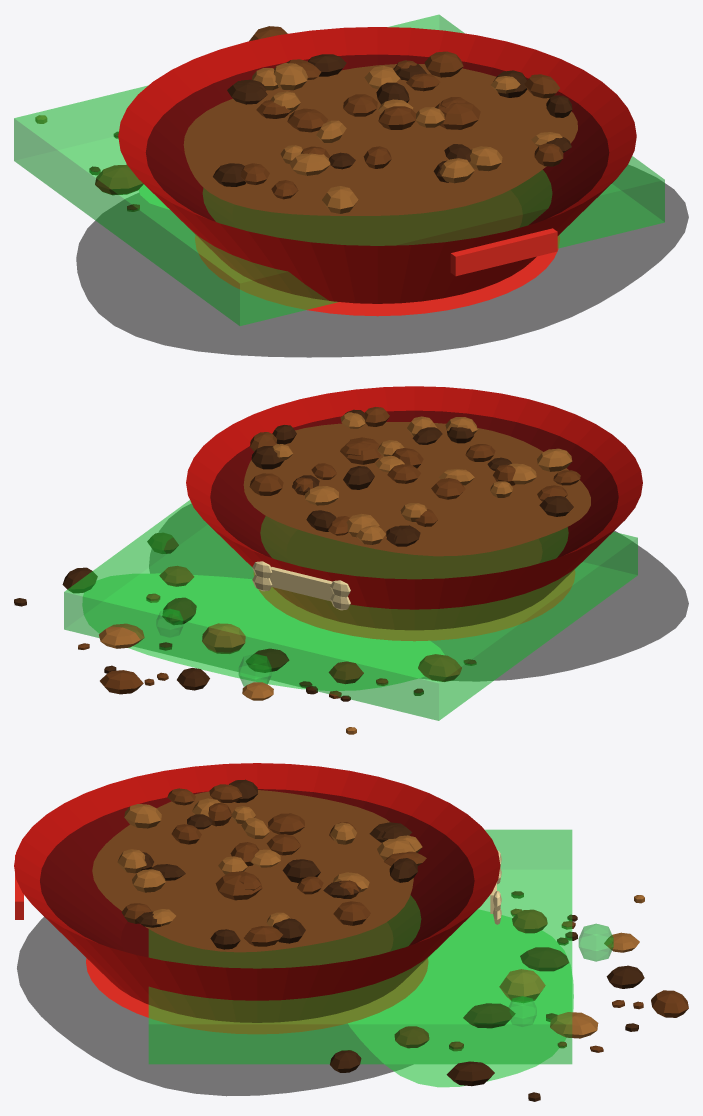
File: dog_food_bowl_full_with_spilled_kibble.obj
3 renders of one model, top to bottom at view 1: azimuth 30°, elevation 25°; view 2: azimuth 150°, elevation 25°; view 3: azimuth 270°, elevation 25°, orthographic. The views are drawn at different scales.
Visible parts, largest first — view 1: Subtle_food_bowl_floor_shadow, Guide_Scent_Source_Food_delete_or_hide, Mounded_visible_kibble_surface, Dog_food_bowl_thick_rounded_top_rim, Dog_food_bowl_outer_red_plastic_shell, Dog_food_bowl_inner_dark_red_wall, Dog_food_bowl_inner_bottom_disk, Dog_food_bowl_bottom_foot_ring, Bowl_back_small_handle_tab, Spilled_kibble_piece_08, Kibble_inside_bowl_piece_13, Kibble_inside_bowl_piece_36 (+15 smaller); view 2: Guide_Scent_Source_Food_delete_or_hide, Mounded_visible_kibble_surface, Subtle_food_bowl_floor_shadow, Scent_area_food_smell_optional_visual, Dog_food_bowl_thick_rounded_top_rim, Dog_food_bowl_outer_red_plastic_shell, Dog_food_bowl_inner_dark_red_wall, Dog_food_bowl_inner_bottom_disk, Dog_food_bowl_bottom_foot_ring, Bowl_front_label_small_bone_center, Spilled_kibble_piece_03, Spilled_kibble_piece_08 (+17 smaller); view 3: Guide_Scent_Source_Food_delete_or_hide, Mounded_visible_kibble_surface, Subtle_food_bowl_floor_shadow, Scent_area_food_smell_optional_visual, Dog_food_bowl_outer_red_plastic_shell, Dog_food_bowl_thick_rounded_top_rim, Dog_food_bowl_inner_dark_red_wall, Dog_food_bowl_inner_bottom_disk, Dog_food_bowl_bottom_foot_ring, Spilled_kibble_piece_03, Guide_Interaction_Point_EatOrSniff, Spilled_kibble_piece_07 (+21 smaller).
Boxes of the visible parts, x1,y1,x2,y2 form: Subtle_food_bowl_floor_shadow: (76,165,688,357); Guide_Scent_Source_Food_delete_or_hide: (14,14,664,325); Mounded_visible_kibble_surface: (183,64,577,215); Dog_food_bowl_thick_rounded_top_rim: (118,27,636,218); Dog_food_bowl_outer_red_plastic_shell: (139,179,615,303); Dog_food_bowl_inner_dark_red_wall: (145,54,609,227); Dog_food_bowl_inner_bottom_disk: (232,190,522,245); Dog_food_bowl_bottom_foot_ring: (195,235,559,316); Bowl_back_small_handle_tab: (450,228,557,276); Spilled_kibble_piece_08: (95,164,143,194); Kibble_inside_bowl_piece_13: (435,101,480,129); Kibble_inside_bowl_piece_36: (424,51,463,77); Guide_Scent_Source_Food_delete_or_hide: (64,500,637,720); Mounded_visible_kibble_surface: (243,422,590,556); Subtle_food_bowl_floor_shadow: (149,504,688,681); Scent_area_food_smell_optional_visual: (82,573,443,690); Dog_food_bowl_thick_rounded_top_rim: (186,386,642,555); Dog_food_bowl_outer_red_plastic_shell: (206,520,624,630); Dog_food_bowl_inner_dark_red_wall: (210,410,618,562); Dog_food_bowl_inner_bottom_disk: (286,529,542,579); Dog_food_bowl_bottom_foot_ring: (254,570,574,640); Bowl_front_label_small_bone_center: (269,567,332,601); Spilled_kibble_piece_03: (202,623,245,653); Spilled_kibble_piece_08: (418,654,461,681); Guide_Scent_Source_Food_delete_or_hide: (148,829,572,1064); Mounded_visible_kibble_surface: (92,790,413,952); Subtle_food_bowl_floor_shadow: (17,917,412,1096); Scent_area_food_smell_optional_visual: (348,909,573,1087); Dog_food_bowl_outer_red_plastic_shell: (35,906,480,1022); Dog_food_bowl_thick_rounded_top_rim: (14,763,500,942); Dog_food_bowl_inner_dark_red_wall: (40,789,474,951); Dog_food_bowl_inner_bottom_disk: (121,922,393,968); Dog_food_bowl_bottom_foot_ring: (86,958,428,1033); Spilled_kibble_piece_03: (499,969,545,1002); Guide_Interaction_Point_EatOrSniff: (578,923,613,961); Spilled_kibble_piece_07: (550,1012,598,1038).
Size of what is drawn, in the model's own units: 1.72 by 0.3884 by 1.83.
